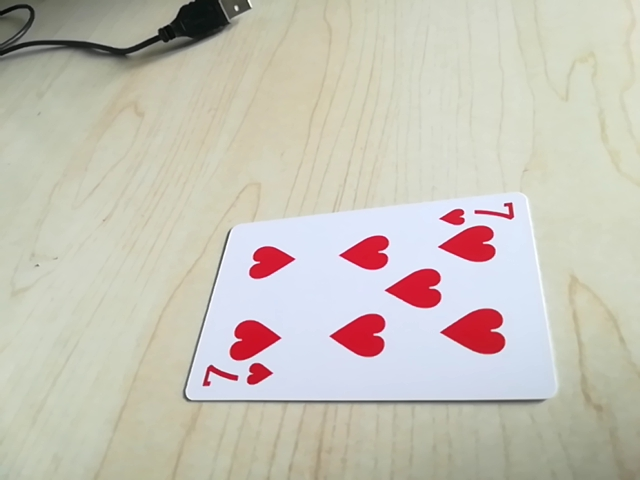hx 7: (195, 362, 275, 396), (438, 197, 518, 227)
